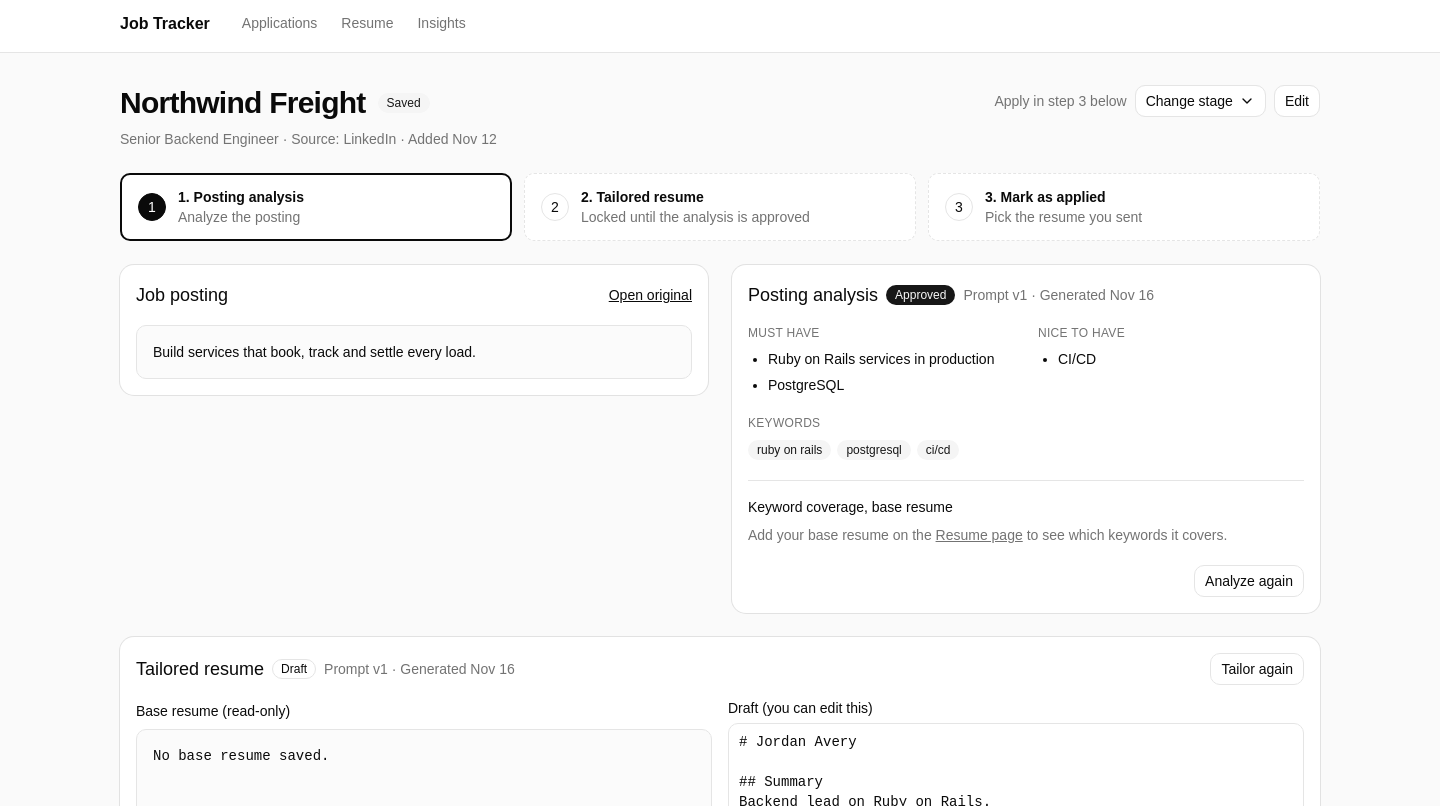
Test: draft state › Tailor again posts a new request and shows the new draft
Click the button "Tailor again": [1257, 669] box [1210,653,1304,685]
(page scrolled)
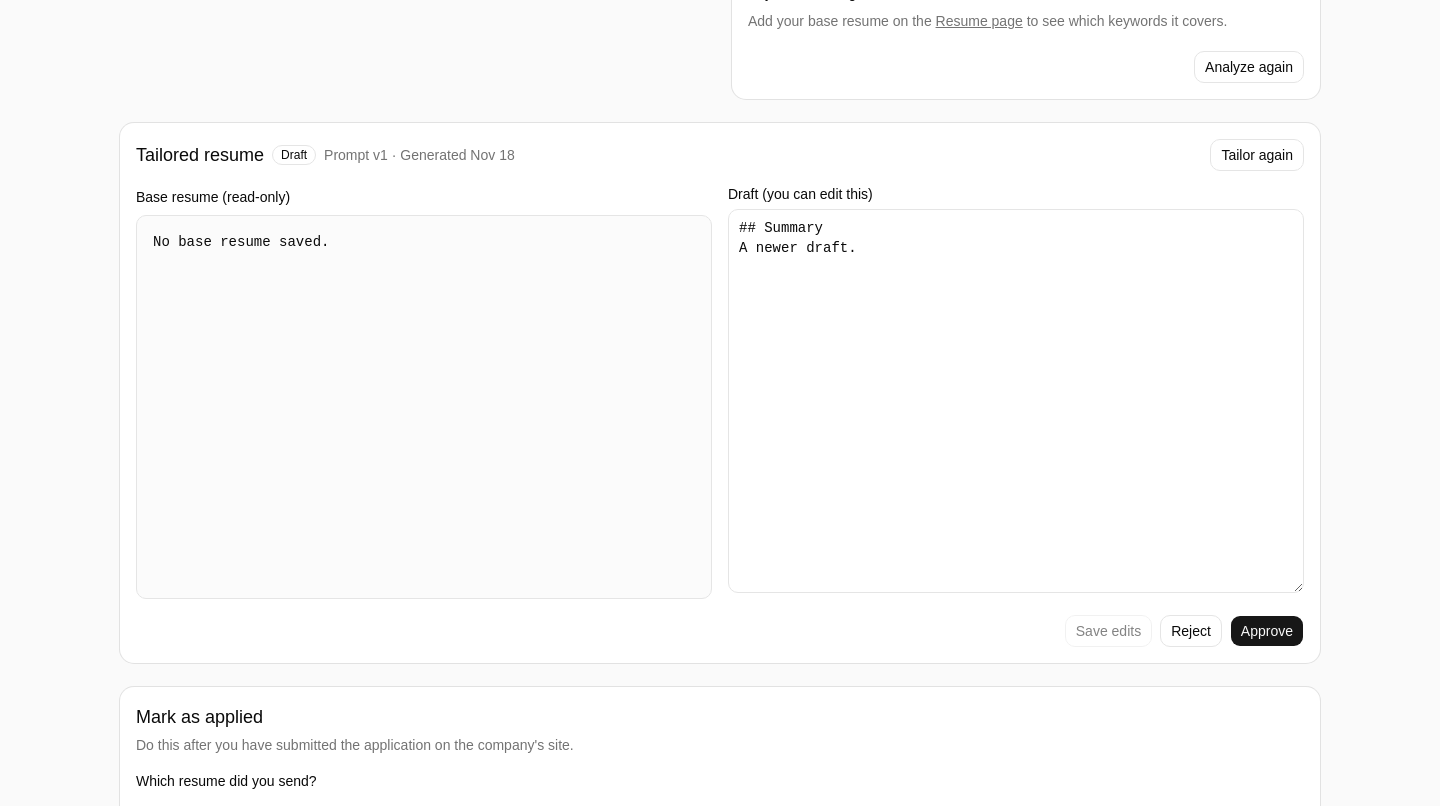
expect the text box showing "A newer draft" is shown: met, box [728,209,1304,593]
